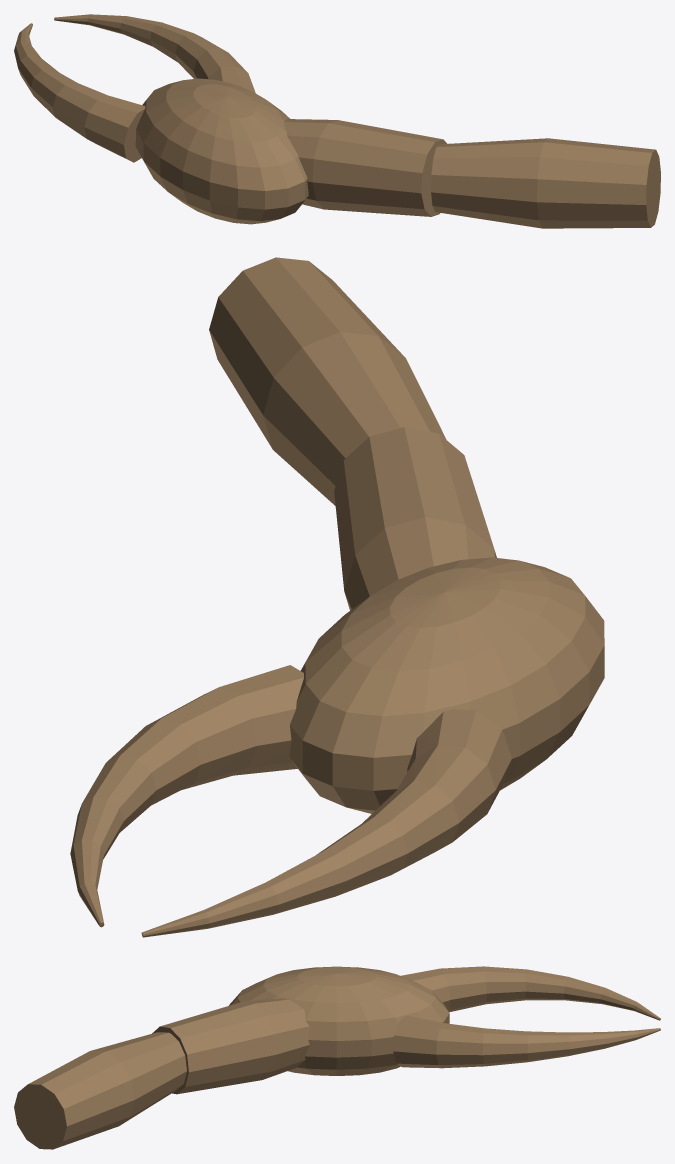
Rendered from scorpion_claw_left_original_01.glb.
3 renders of one model, top to bottom at view 1: azimuth 30°, elevation 25°; view 2: azimuth 150°, elevation 25°; view 3: azimuth 270°, elevation 25°, orthographic. The views are drawn at different scales.
Visible parts, largest first — view 1: S0_LPalm, S0_LPalpArm0, S0_LPalpArm1, S0_LFixedFinger, S0_LMovableFinger; view 2: S0_LPalm, S0_LPalpArm0, S0_LFixedFinger, S0_LMovableFinger, S0_LPalpArm1; view 3: S0_LPalm, S0_LPalpArm0, S0_LPalpArm1, S0_LMovableFinger, S0_LFixedFinger.
Part boxes in pixels (left/top/right/bottom): S0_LPalm: left=135, top=78, right=308, bottom=224; S0_LPalpArm0: left=431, top=138, right=660, bottom=228; S0_LPalpArm1: left=283, top=119, right=447, bottom=216; S0_LFixedFinger: left=14, top=23, right=145, bottom=162; S0_LMovableFinger: left=54, top=14, right=255, bottom=93; S0_LPalm: left=289, top=557, right=604, bottom=813; S0_LPalpArm0: left=209, top=257, right=446, bottom=505; S0_LFixedFinger: left=141, top=709, right=511, bottom=937; S0_LMovableFinger: left=70, top=665, right=303, bottom=927; S0_LPalpArm1: left=334, top=427, right=496, bottom=610; S0_LPalm: left=229, top=966, right=449, bottom=1075; S0_LPalpArm0: left=14, top=1032, right=186, bottom=1149; S0_LPalpArm1: left=152, top=998, right=309, bottom=1094; S0_LMovableFinger: left=393, top=1016, right=660, bottom=1068; S0_LFixedFinger: left=401, top=966, right=660, bottom=1020.
Size of the model in its own units: 0.5713 by 0.163 by 0.9607.
